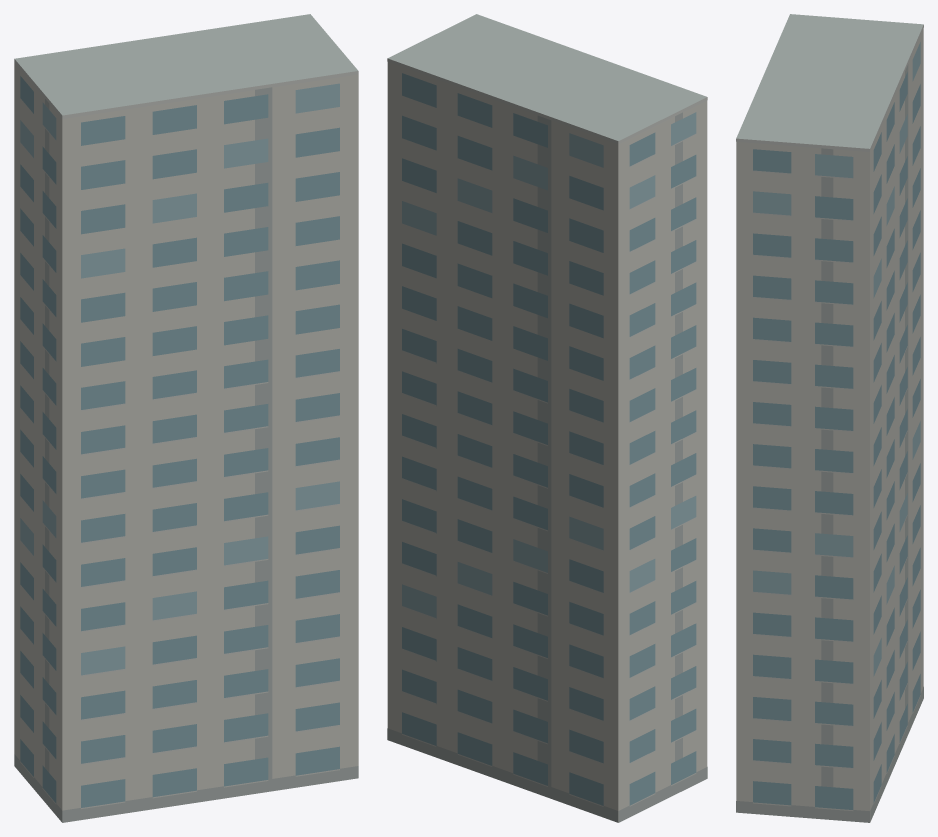
Rendered from residential-80594faa-2f81-44f4-afce-c5fa22219f61.glb.
3 renders of one model, left to right at view 1: azimuth 30°, elevation 25°; view 2: azimuth 150°, elevation 25°; view 3: azimuth 270°, elevation 25°, orthographic. The views are drawn at different scales.
Parts seen in each view (by area): view 1: residential-80594faa-2f81-44f4-afce-c5fa22219f61.tmp; view 2: residential-80594faa-2f81-44f4-afce-c5fa22219f61.tmp; view 3: residential-80594faa-2f81-44f4-afce-c5fa22219f61.tmp.
Part boxes in pixels (x1=…): residential-80594faa-2f81-44f4-afce-c5fa22219f61.tmp: x1=14, y1=14, x2=358, y2=822; residential-80594faa-2f81-44f4-afce-c5fa22219f61.tmp: x1=387, y1=14, x2=707, y2=822; residential-80594faa-2f81-44f4-afce-c5fa22219f61.tmp: x1=736, y1=14, x2=923, y2=822.
Bounding box in the file's own units: 21.9 × 51 × 12.88.
